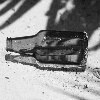beer: (3, 29, 92, 65)
